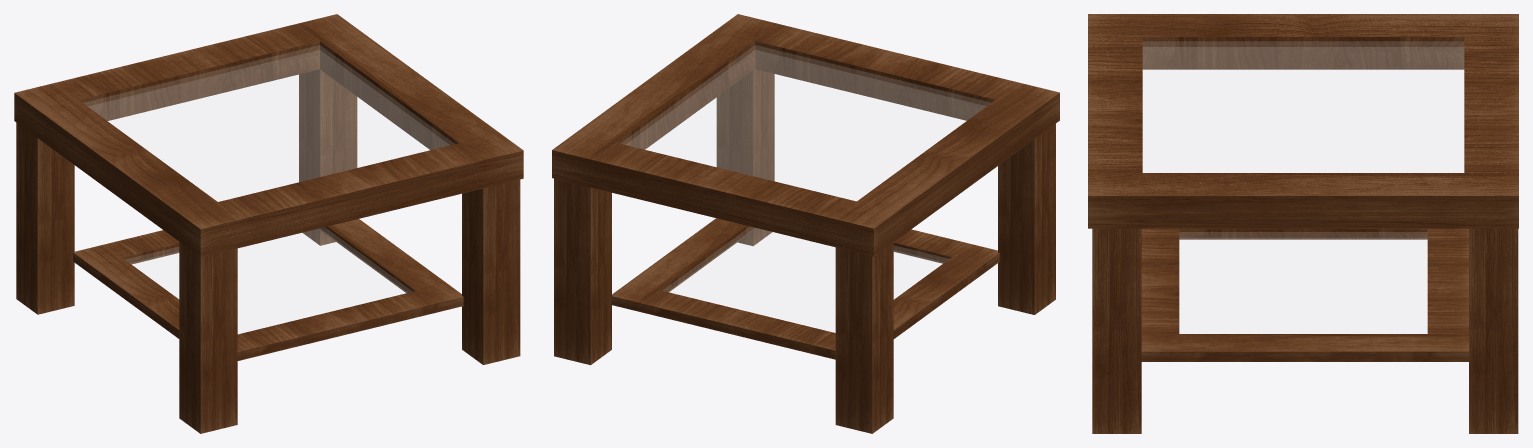
The model's file is Table 7.FBX.
3 renders of one model, left to right at view 1: azimuth 30°, elevation 25°; view 2: azimuth 150°, elevation 25°; view 3: azimuth 270°, elevation 25°, orthographic. The views are drawn at different scales.
Parts seen in each view (by area): view 1: table 7; view 2: table 7; view 3: table 7.
Boxes of the visible parts, x1=… form: table 7: x1=14, y1=14, x2=523, y2=433; table 7: x1=552, y1=14, x2=1059, y2=433; table 7: x1=1088, y1=14, x2=1518, y2=433.
Size of the model in its own units: 27.56 by 16.85 by 27.56.
2 materials, 1 textured.
